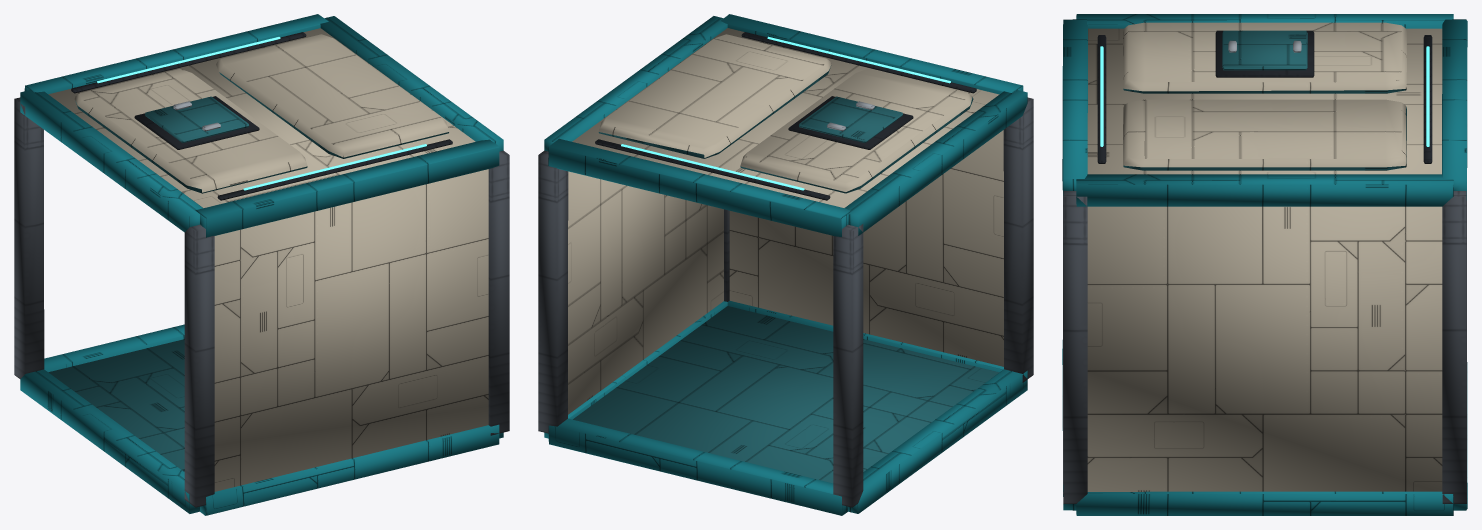
Rendered from pressure_corridor_elbow_lod2.glb.
The picture shows the model from 3 angles, left to right: view 1: azimuth 30°, elevation 25°; view 2: azimuth 150°, elevation 25°; view 3: azimuth 270°, elevation 25°; orthographic projection. The views are drawn at different scales.
Parts seen in each view (by area): view 1: LOD2_Hull, LOD2_Livery, LOD2_Mechanical, LOD2_Armor, LOD2_MechanicalDark, LOD2_Lights_Cyan; view 2: LOD2_Hull, LOD2_Livery, LOD2_Armor, LOD2_Mechanical, LOD2_MechanicalDark, LOD2_Lights_Cyan; view 3: LOD2_Hull, LOD2_Livery, LOD2_Mechanical, LOD2_Armor, LOD2_MechanicalDark, LOD2_Lights_Cyan.
Boxes of the visible parts, bbox=[...] form: LOD2_Hull: bbox=[48, 28, 488, 491]; LOD2_Livery: bbox=[20, 14, 503, 515]; LOD2_Mechanical: bbox=[14, 97, 509, 507]; LOD2_Armor: bbox=[48, 72, 448, 471]; LOD2_MechanicalDark: bbox=[71, 32, 452, 200]; LOD2_Lights_Cyan: bbox=[97, 37, 426, 190]; LOD2_Hull: bbox=[568, 28, 1003, 414]; LOD2_Livery: bbox=[544, 14, 1027, 515]; LOD2_Armor: bbox=[573, 65, 999, 483]; LOD2_Mechanical: bbox=[538, 97, 1033, 507]; LOD2_MechanicalDark: bbox=[595, 32, 976, 200]; LOD2_Lights_Cyan: bbox=[621, 36, 950, 190]; LOD2_Hull: bbox=[1087, 22, 1442, 491]; LOD2_Livery: bbox=[1062, 14, 1467, 515]; LOD2_Mechanical: bbox=[1063, 191, 1466, 503]; LOD2_Armor: bbox=[1123, 30, 1406, 170]; LOD2_MechanicalDark: bbox=[1097, 30, 1432, 163]; LOD2_Lights_Cyan: bbox=[1100, 46, 1429, 146].
Bounding box in the file's own units: 4.26 × 4.08 × 4.27.
7 materials, 6 textured.
